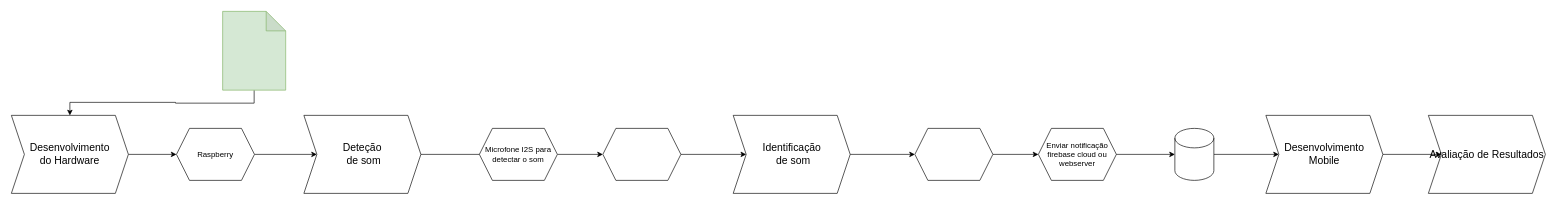
The diagram is 1557 pixels wide and 205 high, and some of its shapes have lost their labels. The shapes that lost their labels are listed below. From the top down, each one's centre as x and y in pixels, then its label:
(254,50): Pesquisa de Campo
(641,154): sounddevice x pyaudio
(953,154): YAMNET
(1194,154): Integração
